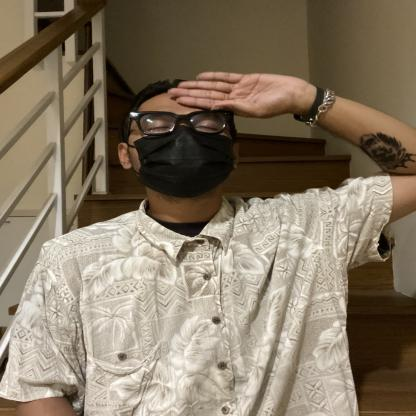Sick: (61, 43, 304, 174)
